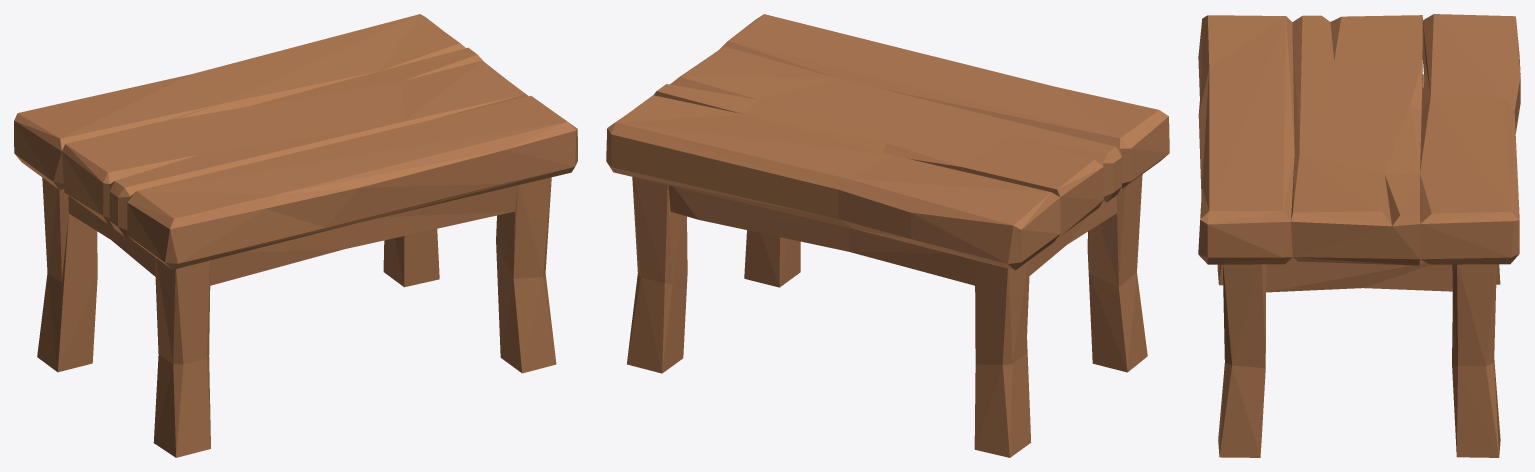
File: KitchenTable.fbx
3 renders of one model, left to right at view 1: azimuth 30°, elevation 25°; view 2: azimuth 150°, elevation 25°; view 3: azimuth 270°, elevation 25°, orthographic.
Parts seen in each view (by area): view 1: KitchenTable; view 2: KitchenTable; view 3: KitchenTable.
Part boxes in pixels (box(x1,y1,x2,y2)): KitchenTable: box(14, 14, 577, 457); KitchenTable: box(606, 14, 1169, 457); KitchenTable: box(1198, 14, 1520, 457).
Bounding box in the file's own units: 0.9935 × 0.6563 × 0.5606.
